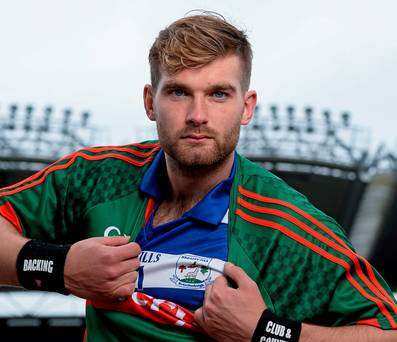player: (69, 11, 368, 341)
